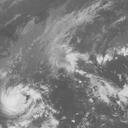cyclone: (47, 36, 80, 74), (2, 86, 36, 118)
